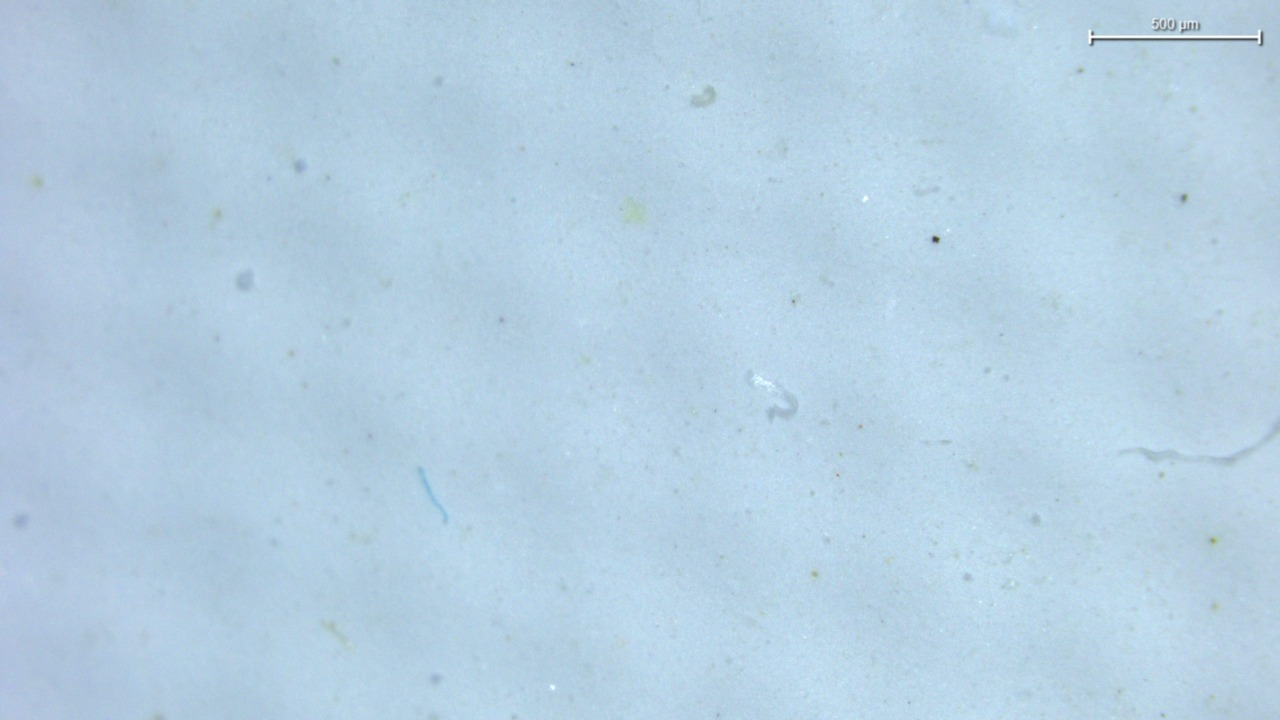microplastic_fragment: (747, 372, 798, 419)
